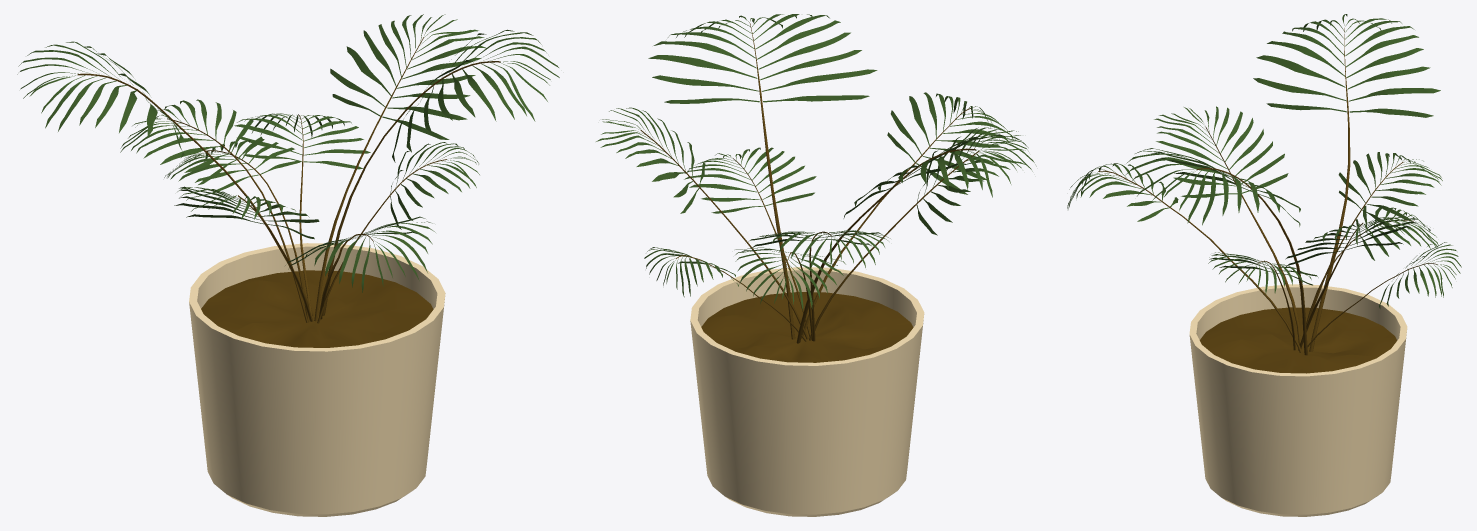
The model's file is Yaja_lv01.fbx.
3 renders of one model, left to right at view 1: azimuth 30°, elevation 25°; view 2: azimuth 150°, elevation 25°; view 3: azimuth 270°, elevation 25°, orthographic. The views are drawn at different scales.
Parts seen in each view (by area): view 1: yaja4_polySurface214group4group2Mesh1; view 2: yaja4_polySurface214group4group2Mesh1; view 3: yaja4_polySurface214group4group2Mesh1.
Part boxes in pixels (left/top/right/bottom): yaja4_polySurface214group4group2Mesh1: left=17, top=14, right=559, bottom=516; yaja4_polySurface214group4group2Mesh1: left=596, top=14, right=1036, bottom=516; yaja4_polySurface214group4group2Mesh1: left=1067, top=14, right=1461, bottom=516.
Bounding box in the file's own units: 50.48 × 45.91 × 44.77.
